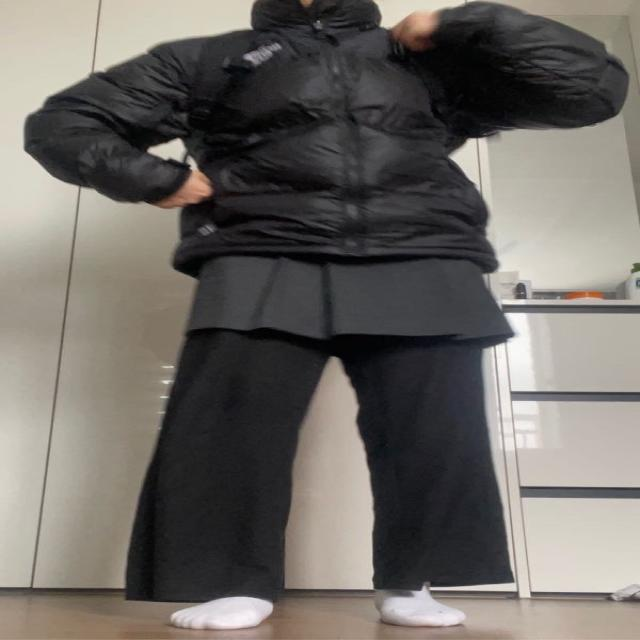padding: (26, 0, 629, 272)
slacks: (122, 294, 516, 604)
